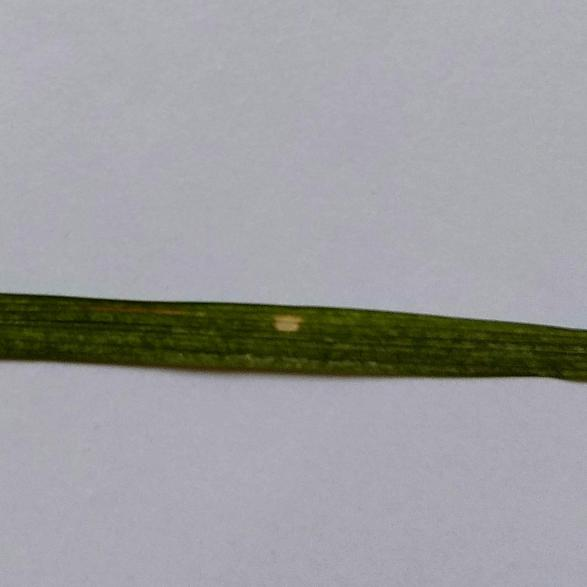Leaf_smut: (264, 299, 314, 335)
